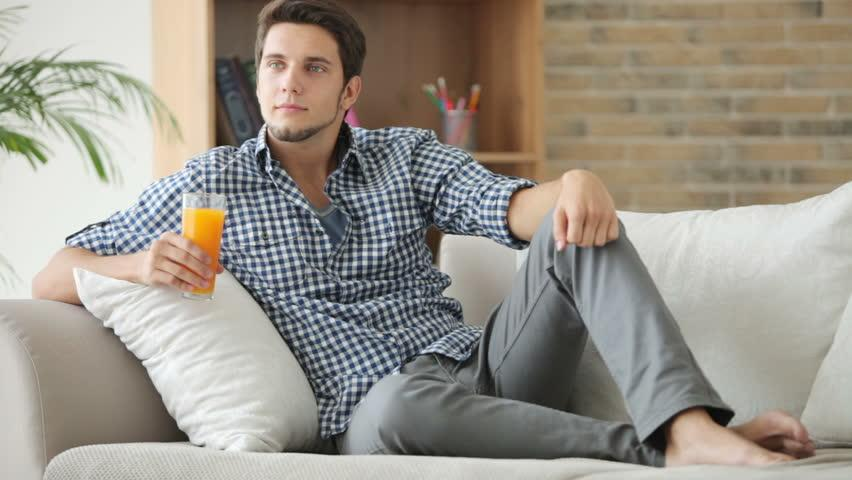FallenBody: (40, 9, 830, 474)
